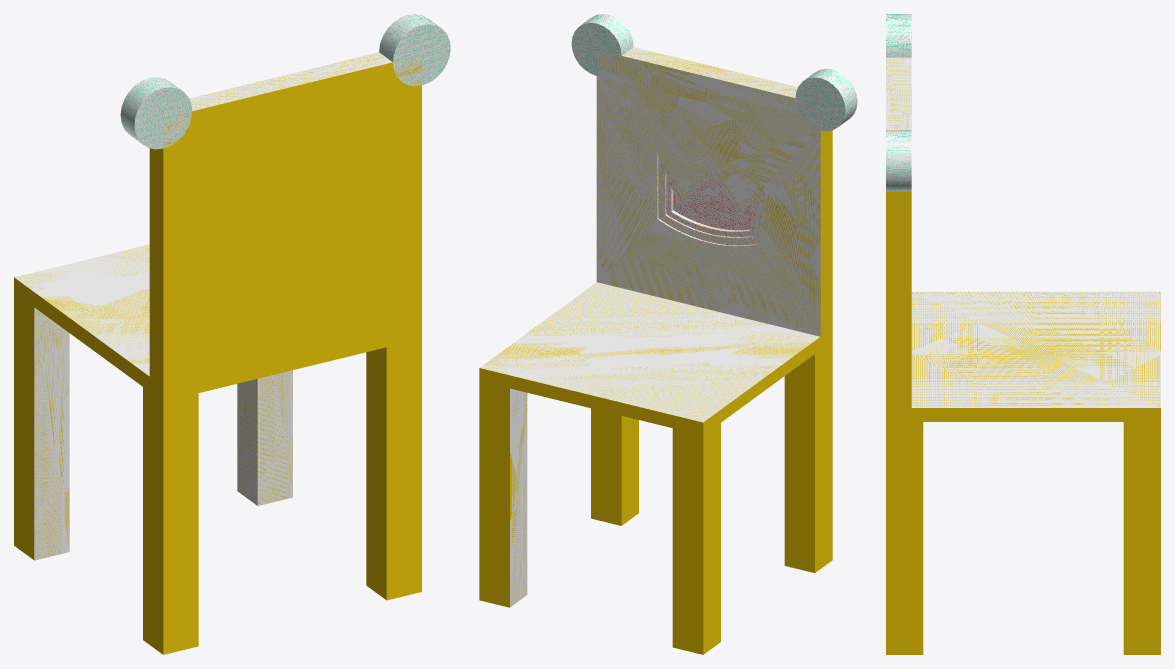
The picture shows the model from 3 angles, left to right: view 1: azimuth 30°, elevation 25°; view 2: azimuth 150°, elevation 25°; view 3: azimuth 270°, elevation 25°; orthographic projection. The views are drawn at different scales.
Visible parts, largest first — view 1: mesh1_mesh1-geometry; view 2: mesh1_mesh1-geometry; view 3: mesh1_mesh1-geometry.
Boxes of the visible parts, x1,y1,x2,y2 form: mesh1_mesh1-geometry: [14, 14, 450, 654]; mesh1_mesh1-geometry: [479, 14, 857, 654]; mesh1_mesh1-geometry: [886, 14, 1160, 654].
Bounding box in the file's own units: 0.4663 × 0.7984 × 0.3809.
